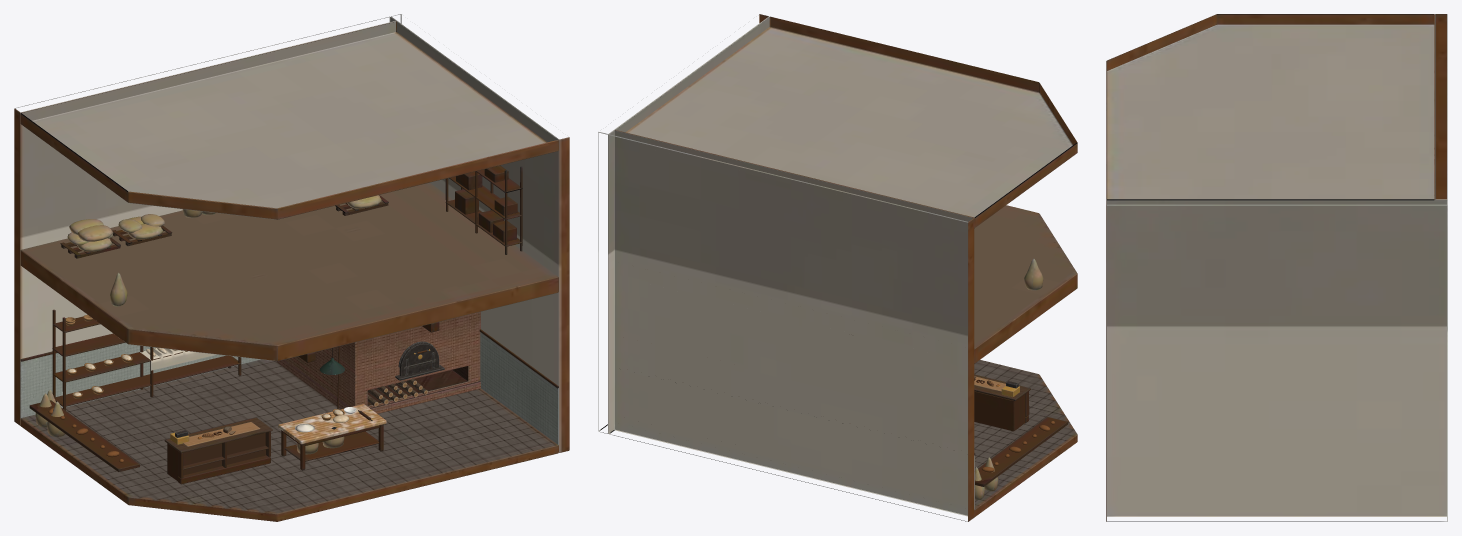
Rendered from enterijer-m.glb.
3 renders of one model, left to right at view 1: azimuth 30°, elevation 25°; view 2: azimuth 150°, elevation 25°; view 3: azimuth 270°, elevation 25°, orthographic. The views are drawn at different scales.
Visible parts, largest first — view 1: Plafon, Pod, Zidovi, Pec, Plocice, Polica, Magacin_regal, Pult, Magacin_dzakovi, Lajsne, Sto_ploca, Vitrina_staklo (+6 smaller); view 2: Zidovi, Plafon, Pod, Pult, Lajsne; view 3: Zidovi, Plafon.
Boxes of the visible parts, x1,y1,x2,y2 form: Plafon: [20, 21, 558, 361]; Pod: [20, 359, 558, 521]; Zidovi: [14, 14, 569, 452]; Pec: [275, 311, 480, 413]; Plocice: [20, 332, 558, 444]; Polica: [52, 309, 241, 410]; Magacin_regal: [445, 165, 522, 254]; Pult: [167, 431, 270, 484]; Magacin_dzakovi: [67, 195, 381, 306]; Lajsne: [20, 329, 558, 471]; Sto_ploca: [278, 404, 386, 444]; Vitrina_staklo: [184, 433, 267, 477]; Zidovi: [598, 14, 974, 521]; Plafon: [615, 16, 1077, 363]; Pod: [974, 360, 1077, 517]; Pult: [974, 391, 1029, 431]; Lajsne: [974, 417, 1067, 486]; Zidovi: [1106, 14, 1447, 521]; Plafon: [1106, 14, 1434, 200].
Size of the model in its own units: 10.61 by 8.2 by 8.
6 materials, 4 textured.
